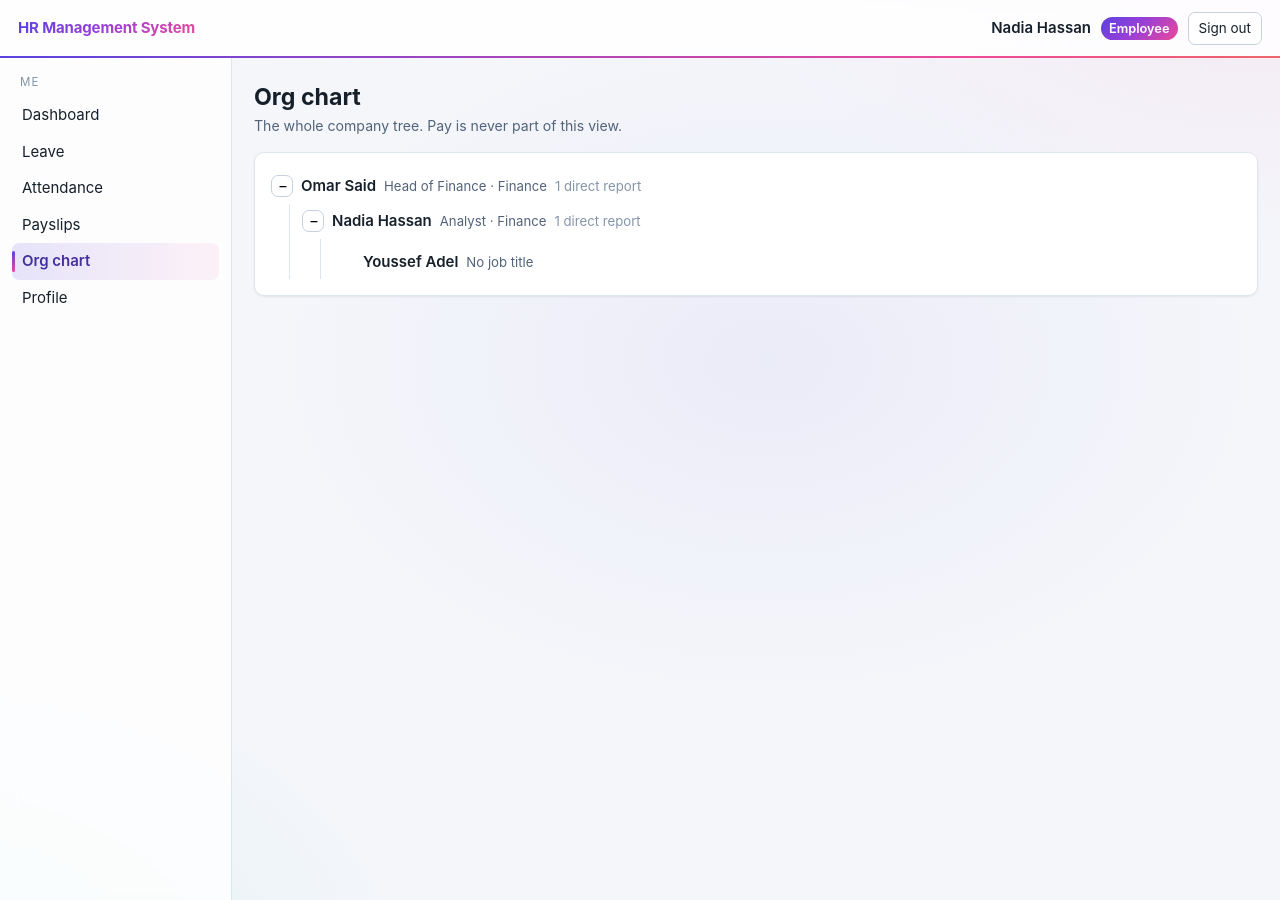
it: org chart › collapses an inner node without touching its parent
The width and height of the screenshot is (1280, 900).
Click the button named "Collapse the reports of Nadia Hassan": click(313, 221) 302,210 -> 324,232
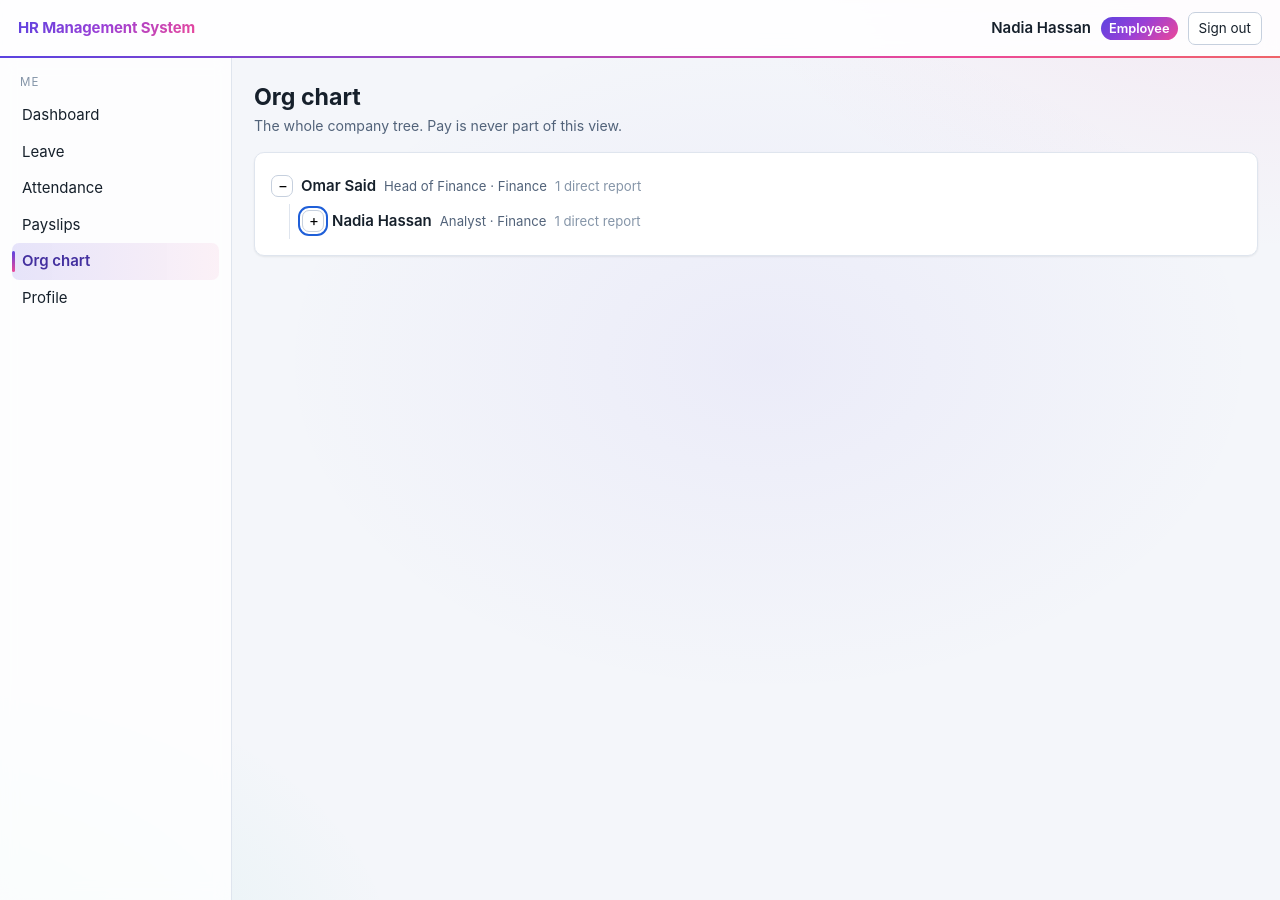
Expected: the text "Omar Said" is shown, 301,175 -> 376,198
Expected: the text "Youssef Adel" is gone
